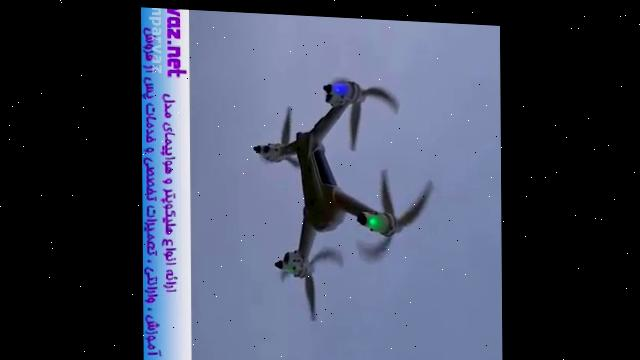drone: (245, 55, 441, 328)
